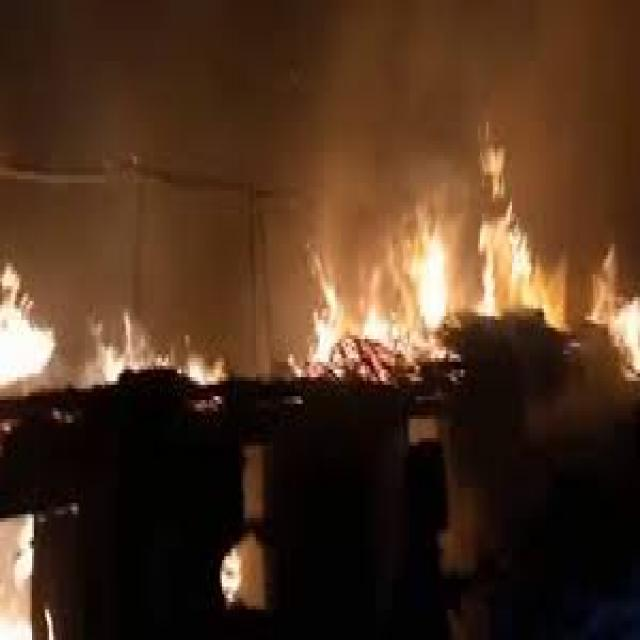fire: (288, 145, 640, 385), (77, 290, 226, 392), (2, 259, 58, 396)
